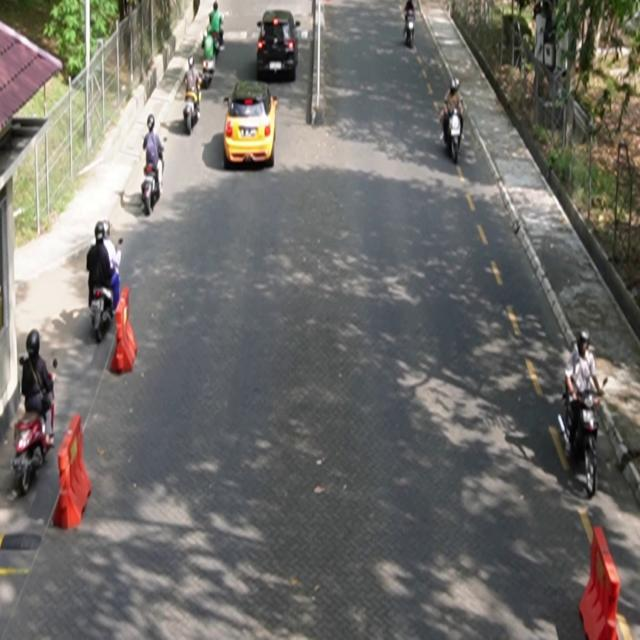car: (224, 81, 279, 168), (257, 9, 302, 82)
